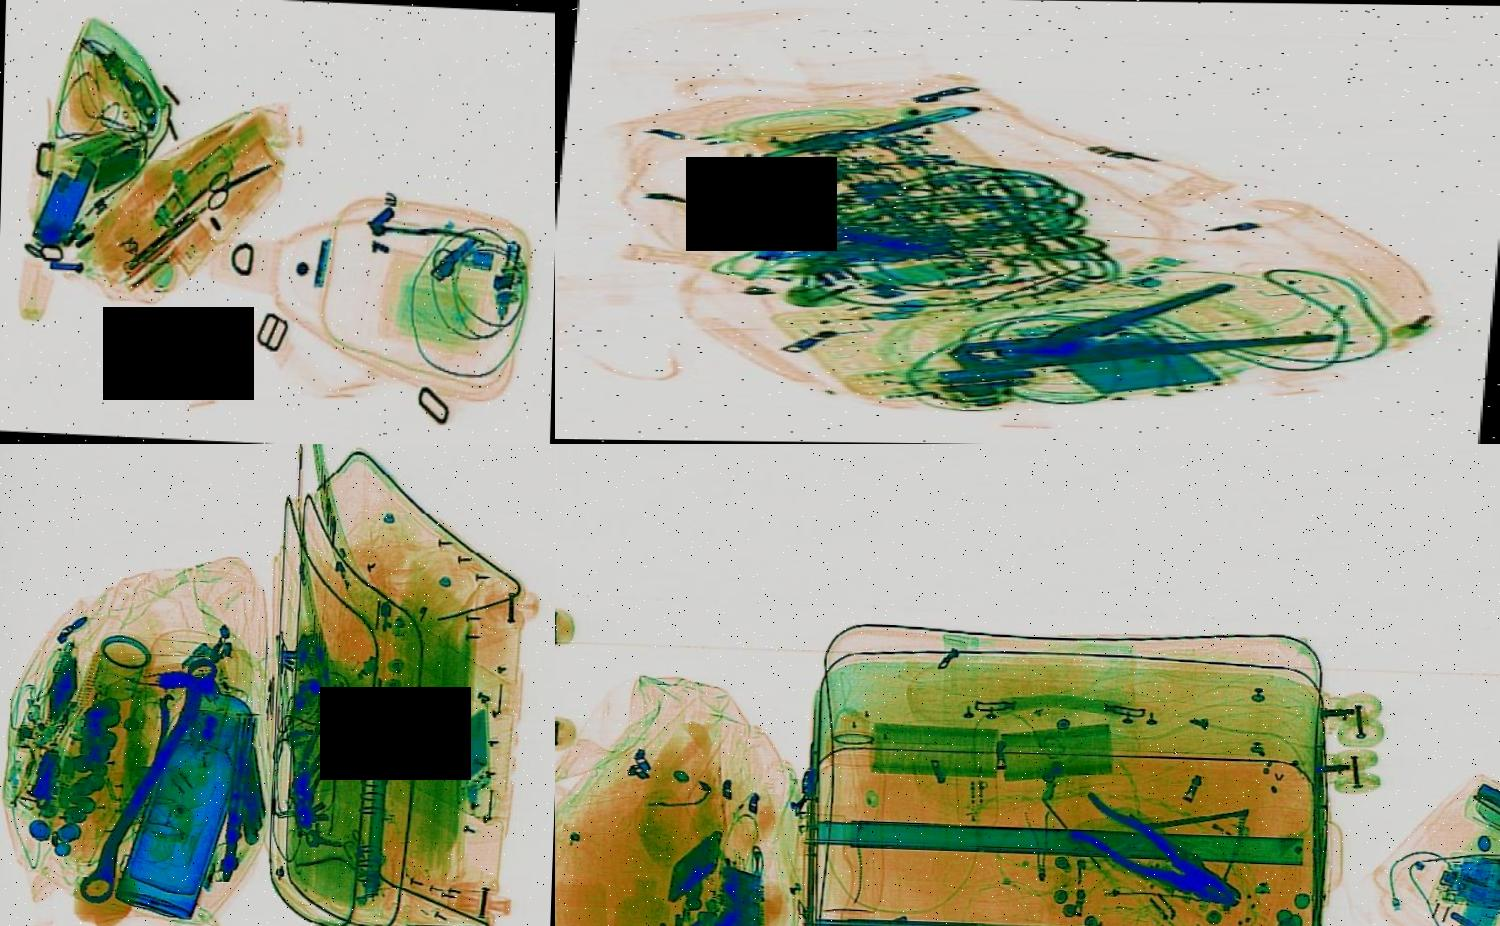Pliers: (915, 268, 1339, 398), (1034, 787, 1269, 919)
Scissors: (188, 148, 282, 212)
Wrench: (70, 646, 225, 912)
